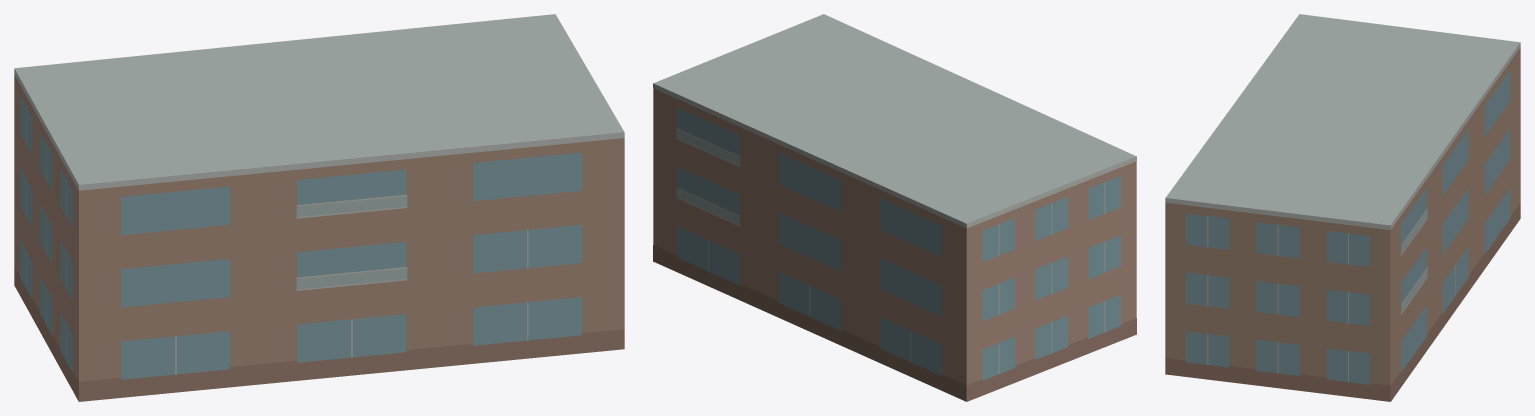
The model's file is survey-upis-32947841.glb.
3 renders of one model, left to right at view 1: azimuth 30°, elevation 25°; view 2: azimuth 150°, elevation 25°; view 3: azimuth 270°, elevation 25°, orthographic. The views are drawn at different scales.
Visible parts, largest first — view 1: survey-upis-32947841.tmp; view 2: survey-upis-32947841.tmp; view 3: survey-upis-32947841.tmp.
Part boxes in pixels (left/top/right/bottom): survey-upis-32947841.tmp: left=14, top=14, right=624, bottom=401; survey-upis-32947841.tmp: left=653, top=14, right=1136, bottom=401; survey-upis-32947841.tmp: left=1165, top=14, right=1520, bottom=401.
Size of the model in its own units: 23.53 by 9.15 by 16.7.
